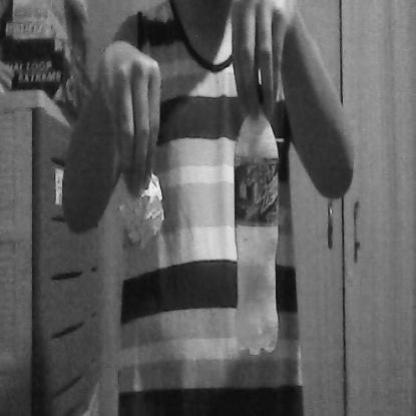Plastic Bottle: (229, 64, 282, 368)
